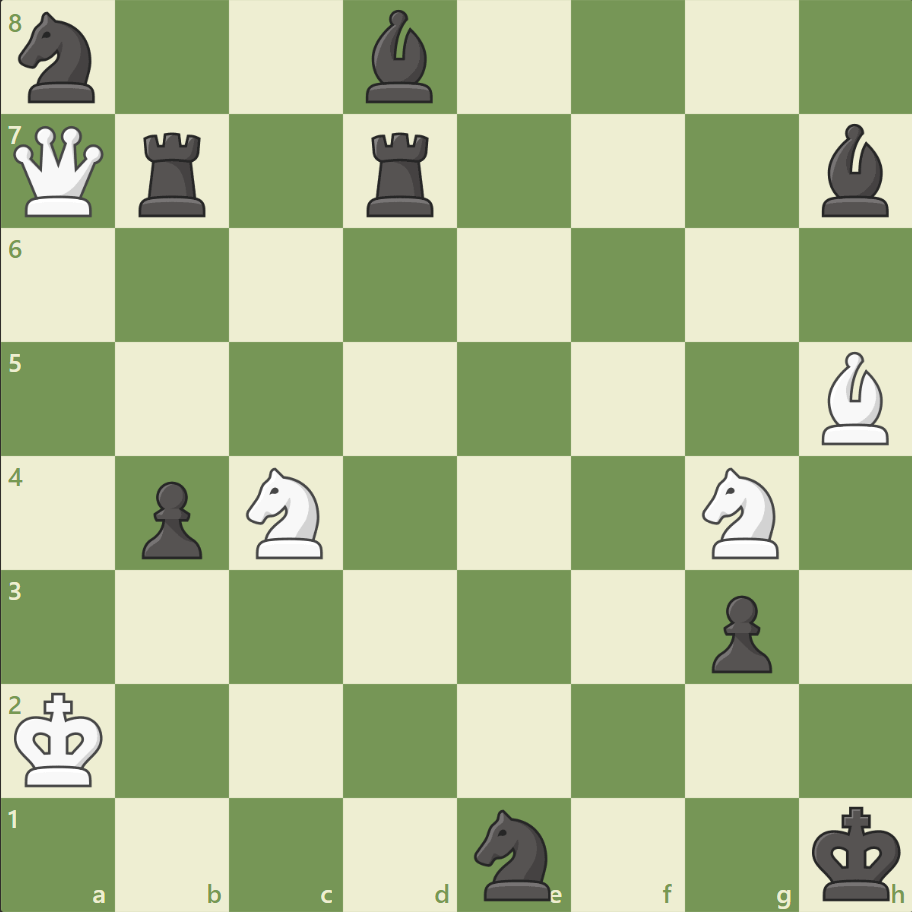B: (812, 347, 896, 449)
K: (11, 685, 111, 793)
N: (238, 461, 335, 564), (692, 461, 789, 564)
Q: (10, 122, 109, 222)
b: (358, 6, 442, 109), (812, 120, 896, 222)
k: (806, 798, 906, 906)
n: (11, 7, 108, 110), (465, 802, 562, 904)
p: (133, 473, 208, 564), (701, 586, 776, 677)
r: (133, 125, 215, 222), (360, 125, 442, 222)
